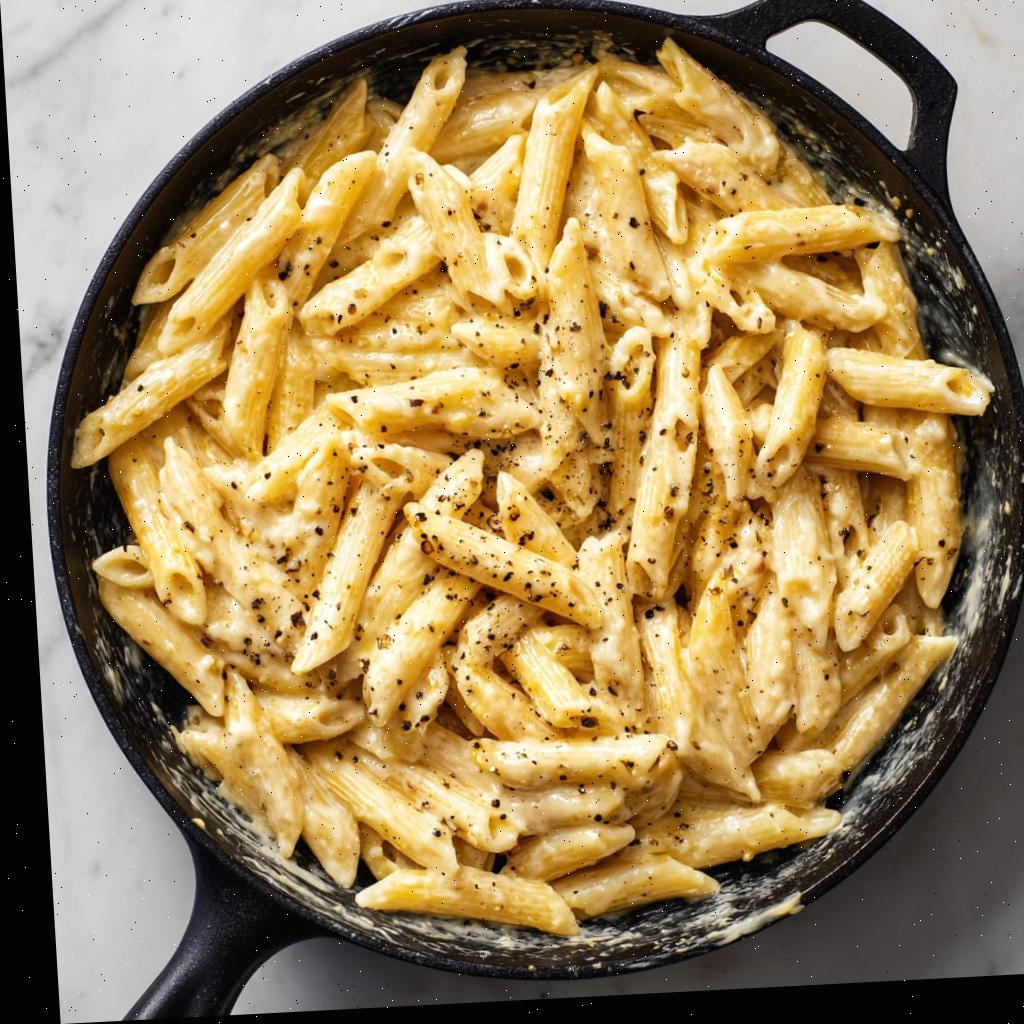pasta: (75, 43, 985, 933)
